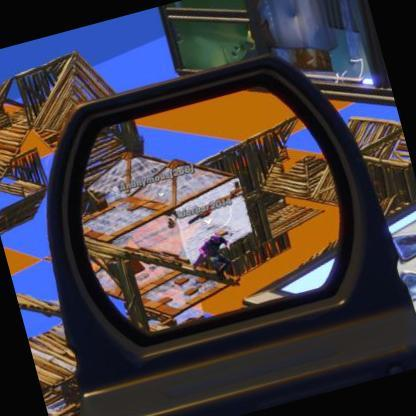person: (202, 227, 242, 282)
